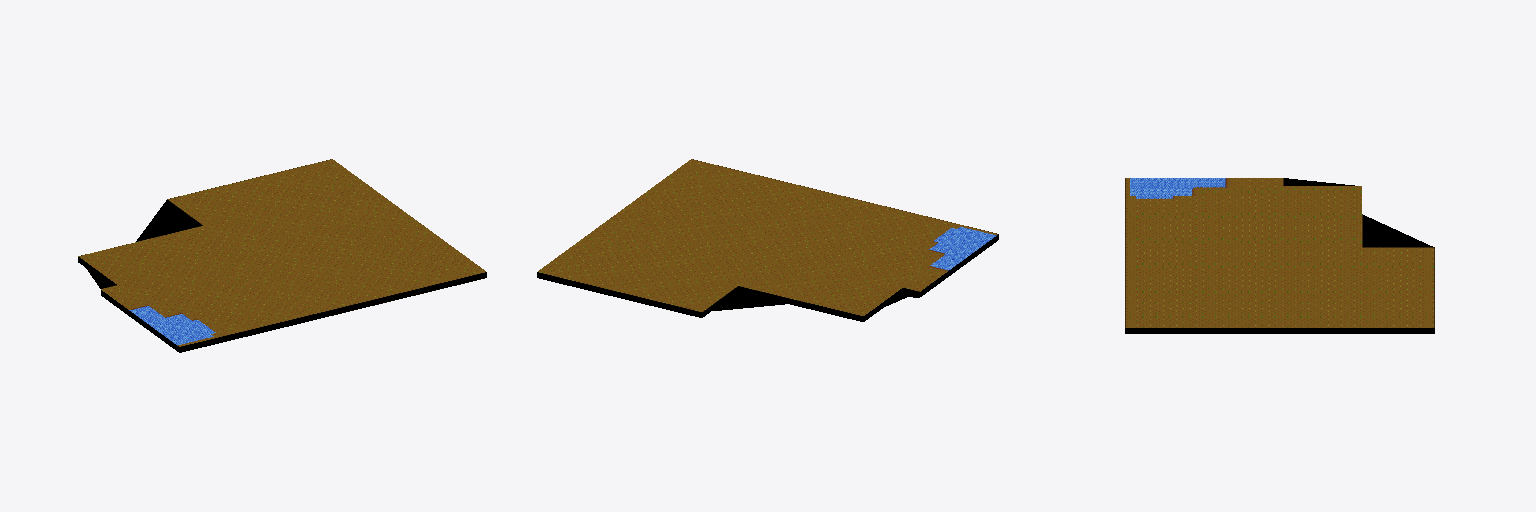
3 views of the same model, side by side, from view 1: azimuth 30°, elevation 25°; view 2: azimuth 150°, elevation 25°; view 3: azimuth 270°, elevation 25° (orthographic).
Visible parts, largest first — view 1: Cube.003; view 2: Cube.003; view 3: Cube.003.
Part boxes in pixels (left/top/right/bottom): Cube.003: left=78, top=159, right=486, bottom=352; Cube.003: left=537, top=159, right=998, bottom=321; Cube.003: left=1125, top=178, right=1434, bottom=333.
Bounding box in the file's own units: 113 × 2.1 × 98.7.
Materials: 1 (1 with a texture image).